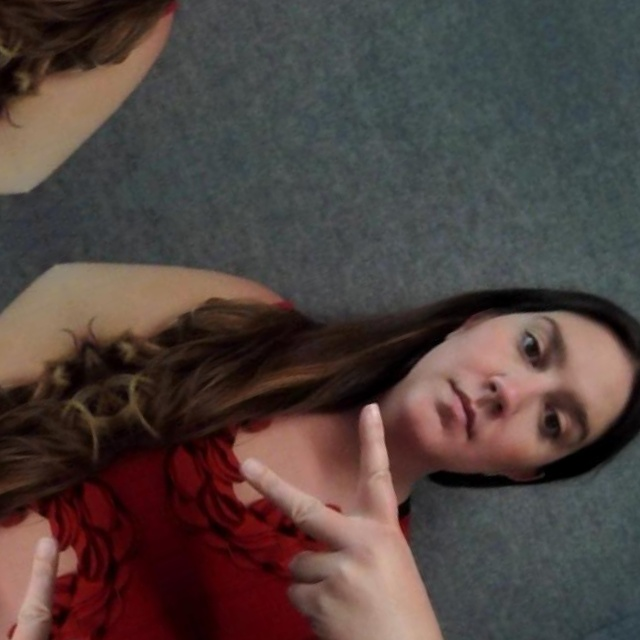Scissors: (159, 368, 522, 640)
